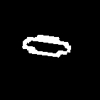chain: (22, 35, 70, 56)
